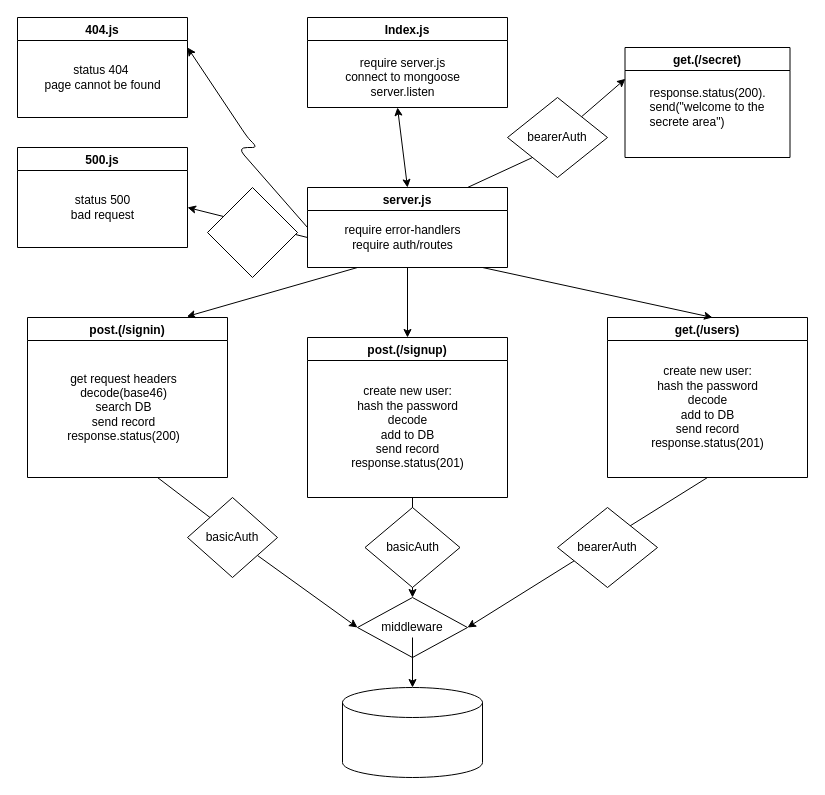
Some shapes in this 825 by 795 pixel diagram are drawn without their labels. The centre of each missing label's shape, as x and y in pixels:
if server error side: point (252, 232)
mongoDB: point (412, 732)
